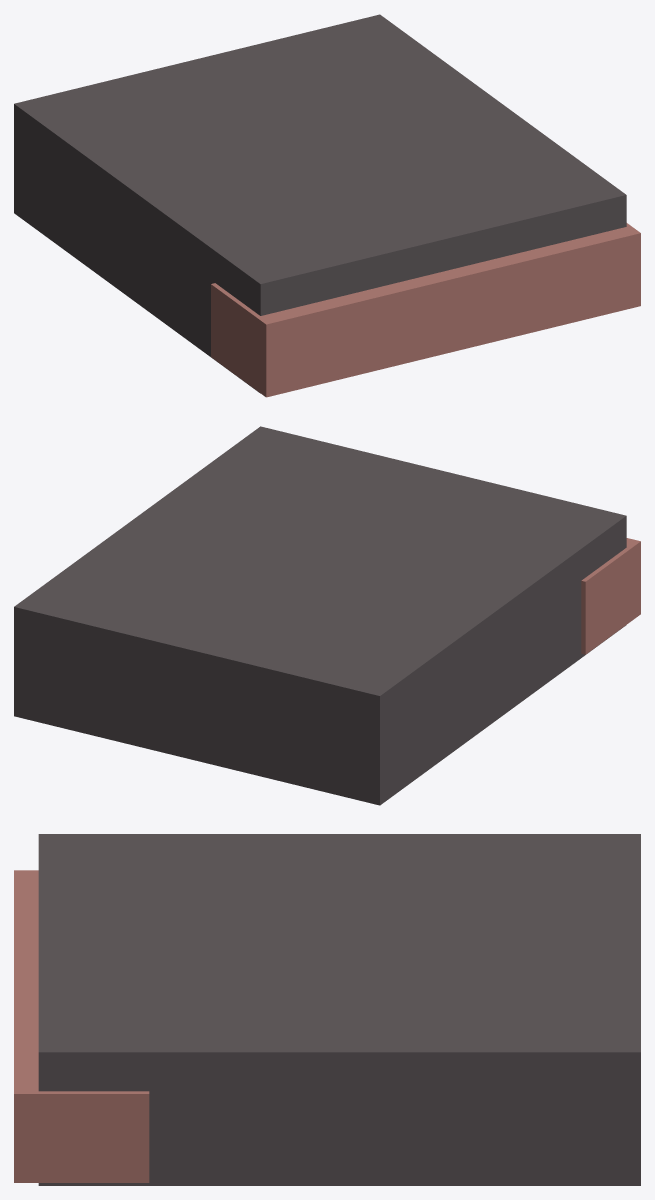
The model's file is inf_v2_walker_foot_r.fbx.
3 renders of one model, top to bottom at view 1: azimuth 30°, elevation 25°; view 2: azimuth 150°, elevation 25°; view 3: azimuth 270°, elevation 25°, orthographic. The views are drawn at different scales.
Parts seen in each view (by area): view 1: inf_v2_walker_foot_r; view 2: inf_v2_walker_foot_r; view 3: inf_v2_walker_foot_r.
Boxes of the visible parts, bbox=[...] form: inf_v2_walker_foot_r: bbox=[14, 14, 640, 397]; inf_v2_walker_foot_r: bbox=[14, 426, 640, 805]; inf_v2_walker_foot_r: bbox=[14, 834, 640, 1185].
Size of the model in its own units: 86 by 24 by 102.
